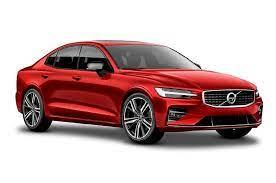car: (14, 27, 265, 149)
